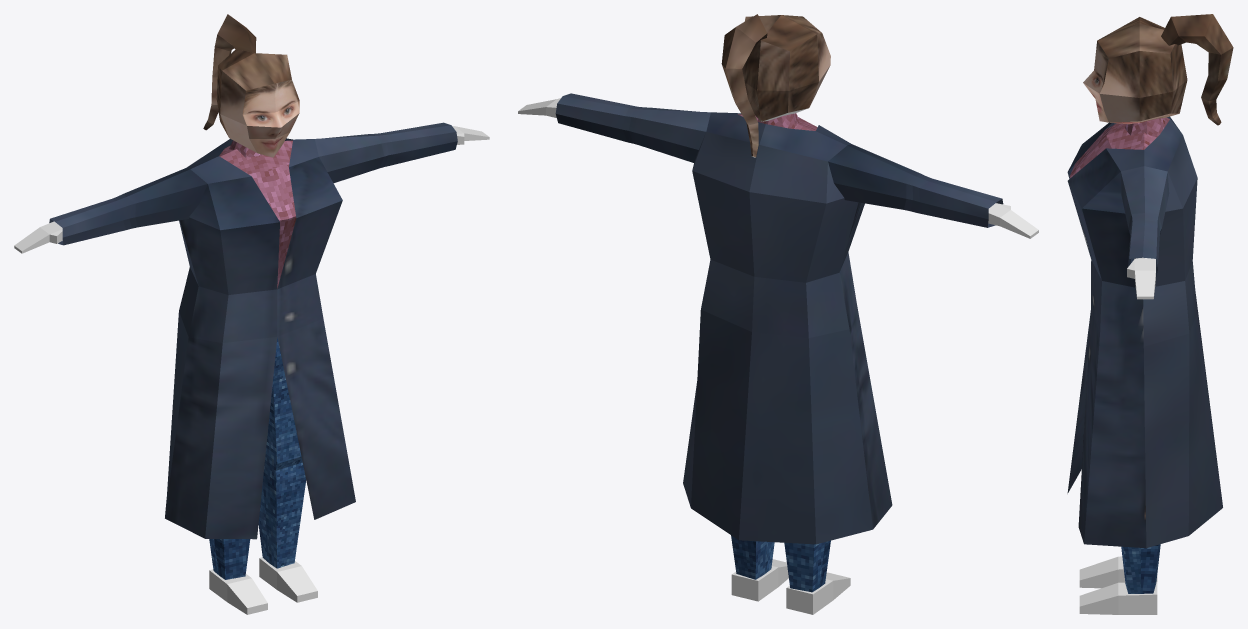
Rendered from Penny.fbx.
3 views of the same model, side by side, from view 1: azimuth 30°, elevation 25°; view 2: azimuth 150°, elevation 25°; view 3: azimuth 270°, elevation 25° (orthographic). The views are drawn at different scales.
Visible parts, largest first — view 1: Coat, Legs, Head, Torso, Arms; view 2: Coat, Head, Legs, Arms; view 3: Coat, Head, Legs, Torso, Arms, Neck.
Boxes of the visible parts, box(x1,y1,x2,y2) form: Coat: box(49, 122, 457, 539); Legs: box(209, 337, 317, 614); Head: box(203, 14, 299, 157); Torso: box(219, 140, 296, 288); Arms: box(14, 126, 489, 253); Coat: box(555, 93, 1003, 544); Head: box(721, 14, 830, 157); Legs: box(731, 535, 850, 614); Arms: box(518, 98, 1038, 238); Coat: box(1067, 116, 1222, 548); Head: box(1083, 14, 1233, 125); Legs: box(1079, 544, 1160, 614); Torso: box(1069, 117, 1169, 177); Arms: box(1127, 257, 1155, 299); Neck: box(1125, 118, 1166, 137).
Size of the model in its own units: 1.24 by 1.38 by 0.3553.
Materials: 5 (4 with a texture image).
